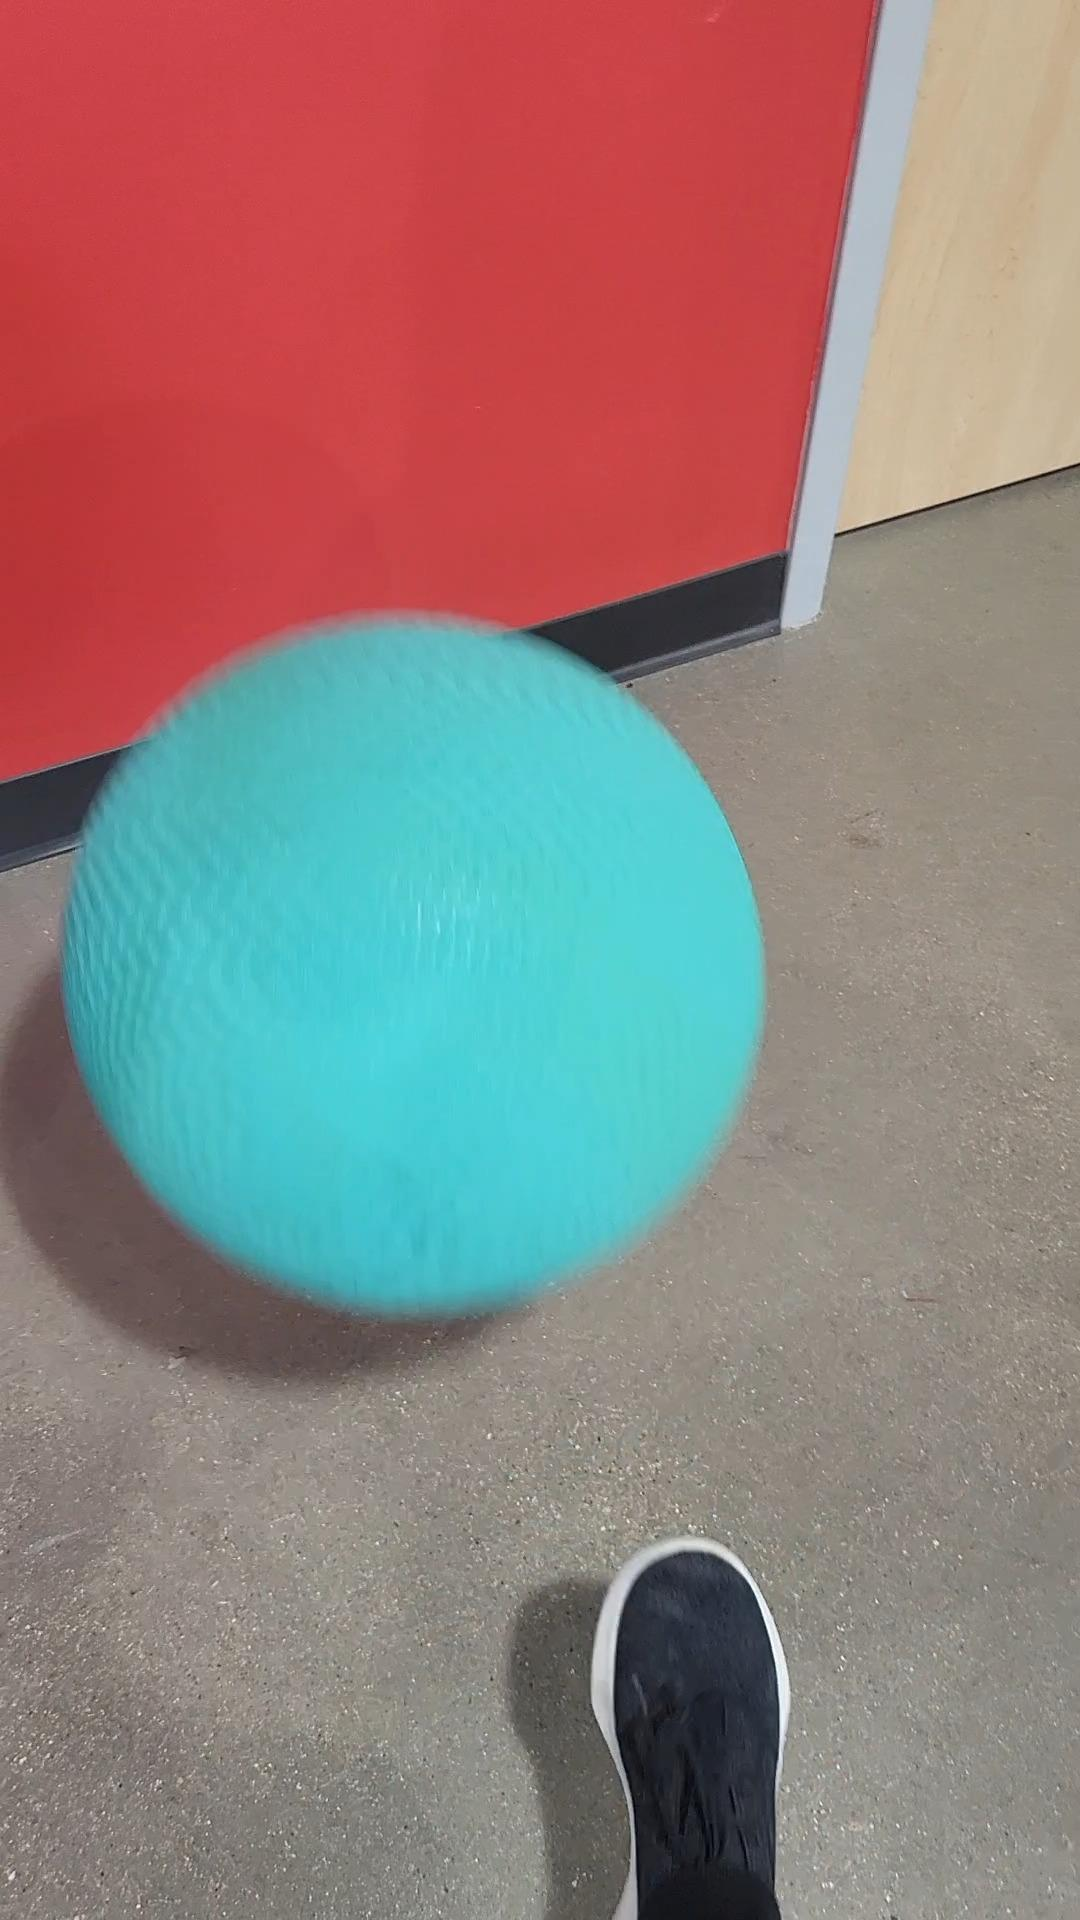algae: (71, 616, 754, 1309)
